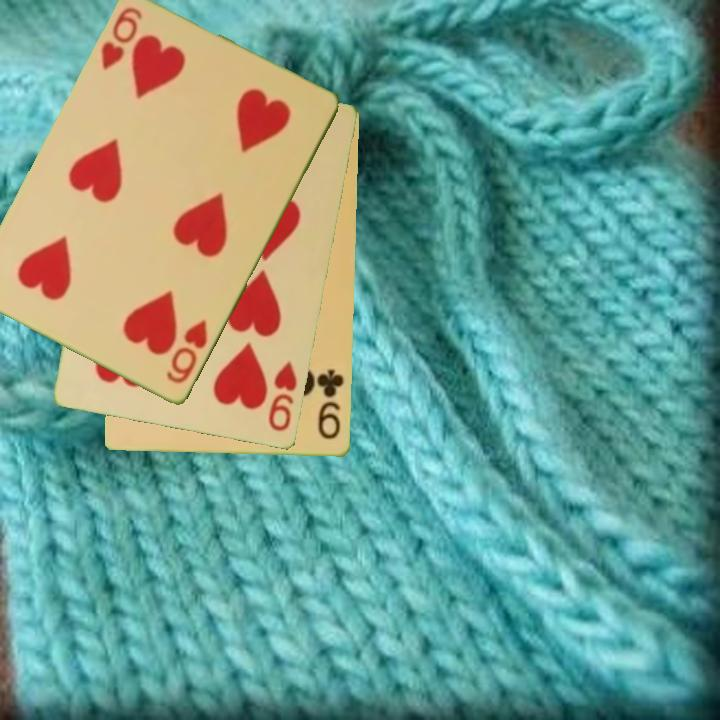6h: (97, 4, 146, 74), (163, 317, 211, 388)
9c: (314, 366, 347, 443)
9h: (265, 358, 301, 435)
